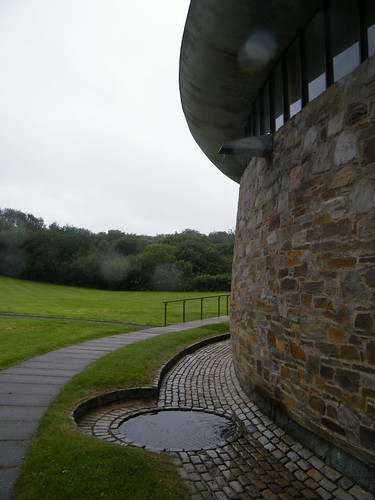building: (178, 38, 375, 500)
grass: (1, 283, 202, 361)
sky: (1, 1, 231, 222)
vegetation: (1, 218, 229, 292)
